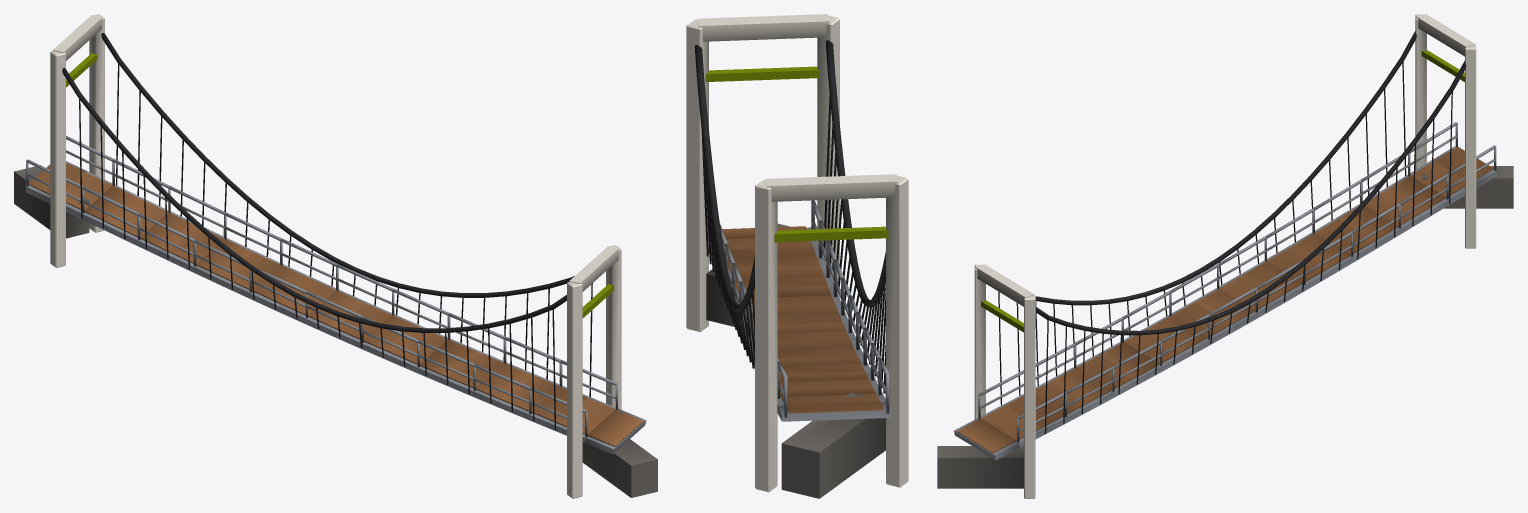
File: about_contact.glb
The picture shows the model from 3 angles, left to right: view 1: azimuth 30°, elevation 25°; view 2: azimuth 150°, elevation 25°; view 3: azimuth 270°, elevation 25°; orthographic projection. The views are drawn at different scales.
Visible parts, largest first — view 1: bridge; view 2: bridge; view 3: bridge.
Boxes of the visible parts, bbox=[...] form: bridge: bbox=[14, 14, 657, 498]; bridge: bbox=[686, 14, 908, 498]; bridge: bbox=[937, 14, 1513, 498].
Size of the model in its own units: 8.5 by 7.39 by 12.
